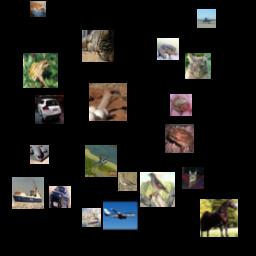airplane: (103, 198, 138, 233), (85, 145, 117, 177), (197, 9, 216, 28), (30, 145, 49, 164)
automobile: (35, 95, 64, 124), (49, 186, 71, 208)
bird: (89, 83, 127, 121), (140, 172, 175, 207), (118, 172, 137, 191)
cat: (82, 30, 114, 62), (185, 53, 211, 79), (182, 167, 204, 189), (30, 1, 46, 17)
frog: (23, 53, 58, 88), (165, 124, 194, 153), (157, 38, 179, 60), (170, 94, 192, 116)
ship: (12, 177, 44, 209), (82, 208, 101, 227)
